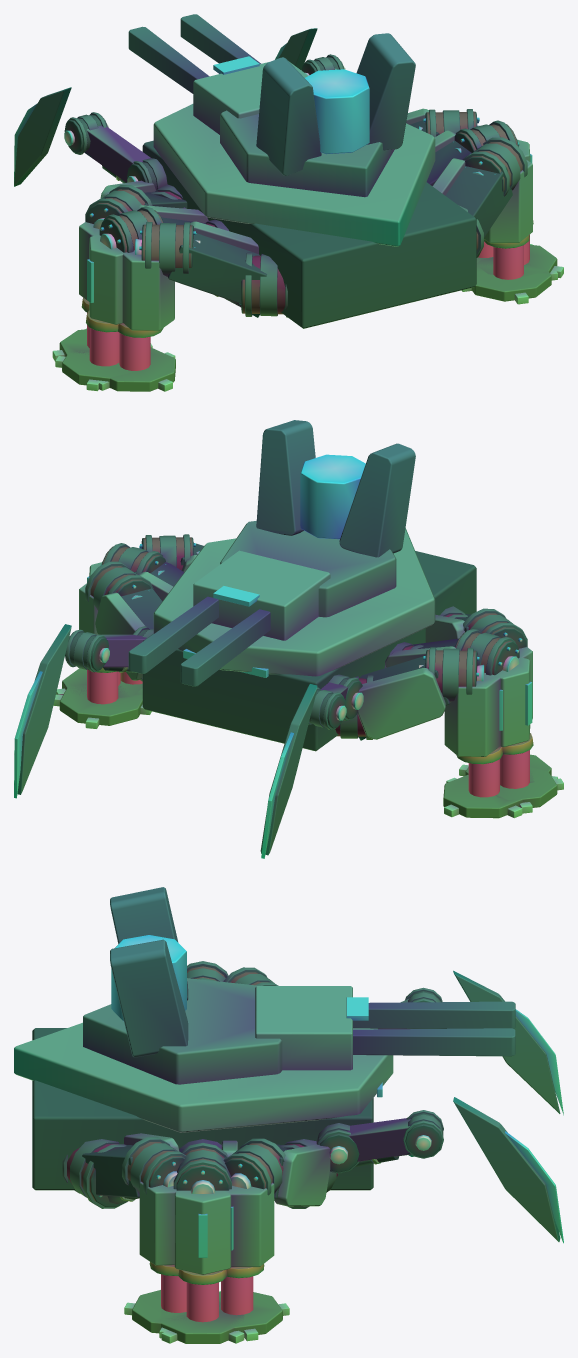
File: colossus.glb
The picture shows the model from 3 angles, top to bottom: view 1: azimuth 30°, elevation 25°; view 2: azimuth 150°, elevation 25°; view 3: azimuth 270°, elevation 25°; orthographic projection. The views are drawn at different scales.
Visible parts, largest first — view 1: Body__dark, Body__armor, Body__gunmetal, Body__armor_sub, Hip_4__dark, SacMain__emit_core, Gun__gunmetal, Scythe_0__gunmetal, Hip_4_Knee__armor, Gun__armor, Hip_5__dark, Hip_2_Knee__armor (+32 smaller); view 2: Body__dark, Body__armor, Body__gunmetal, Gun__armor, Body__armor_sub, Gun__gunmetal, Hip_0__armor, SacMain__emit_core, Scythe_1__gunmetal, Hip_0_Knee__armor, Scythe_0__gunmetal, Hip_2_Knee__armor (+29 smaller); view 3: Body__armor, Body__armor_sub, Body__dark, Body__gunmetal, Gun__gunmetal, Gun__armor, Scythe_1__gunmetal, Hip_3_Knee__armor, Hip_1_Knee__armor, Scythe_0__gunmetal, Hip_1__armor, Hip_5_Knee__armor (+21 smaller).
Part boxes in pixels (x1,y1,x2,y2): Body__dark: (142,140,476,328); Body__armor: (153,104,435,246); Body__gunmetal: (256,33,415,175); Body__armor_sub: (220,110,394,197); Hip_4__dark: (168,233,285,317); SacMain__emit_core: (305,69,369,154); Gun__gunmetal: (128,14,260,93); Scythe_0__gunmetal: (14,87,167,189); Hip_4_Knee__armor: (122,250,174,330); Gun__armor: (193,61,308,134); Hip_5__dark: (445,166,512,249); Hip_2_Knee__armor: (89,234,124,324); Body__dark: (142,551,476,751); Body__armor: (153,528,435,676); Body__gunmetal: (256,420,415,557); Gun__armor: (193,550,330,640); Body__armor_sub: (220,521,396,617); Gun__gunmetal: (128,596,270,686); Hip_0__armor: (357,668,445,739); SacMain__emit_core: (300,454,365,539); Scythe_1__gunmetal: (17,624,153,794); Hip_0_Knee__armor: (444,673,500,756); Scythe_0__gunmetal: (260,674,361,855); Hip_2_Knee__armor: (495,657,530,747); Body__armor: (14,1022,393,1132); Body__armor_sub: (83,978,282,1084); Body__dark: (32,1028,373,1190); Body__gunmetal: (110,887,188,1057); Gun__gunmetal: (353,1001,515,1056); Gun__armor: (255,986,352,1070); Scythe_1__gunmetal: (316,1097,560,1241); Hip_3_Knee__armor: (174,1189,231,1274); Hip_1_Knee__armor: (226,1182,274,1267); Scythe_0__gunmetal: (405,970,560,1113); Hip_1__armor: (274,1144,330,1206); Hip_5_Knee__armor: (139,1181,176,1265).
Size of the model in its own units: 3.7 by 2.13 by 3.48.
